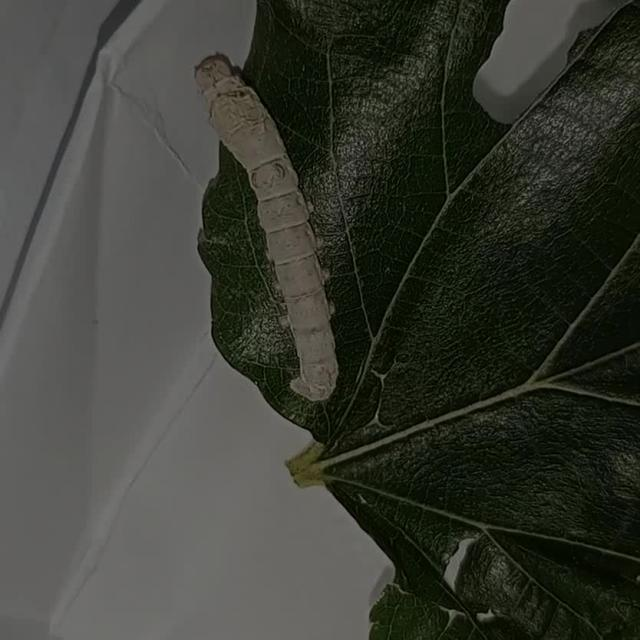Healthy: (184, 46, 356, 415)
